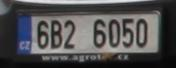0: (136, 18, 149, 48), (108, 18, 121, 47)
2: (63, 19, 76, 50)
5: (122, 17, 135, 48)
6: (93, 19, 107, 49), (36, 20, 50, 49)
B: (50, 19, 62, 50)
